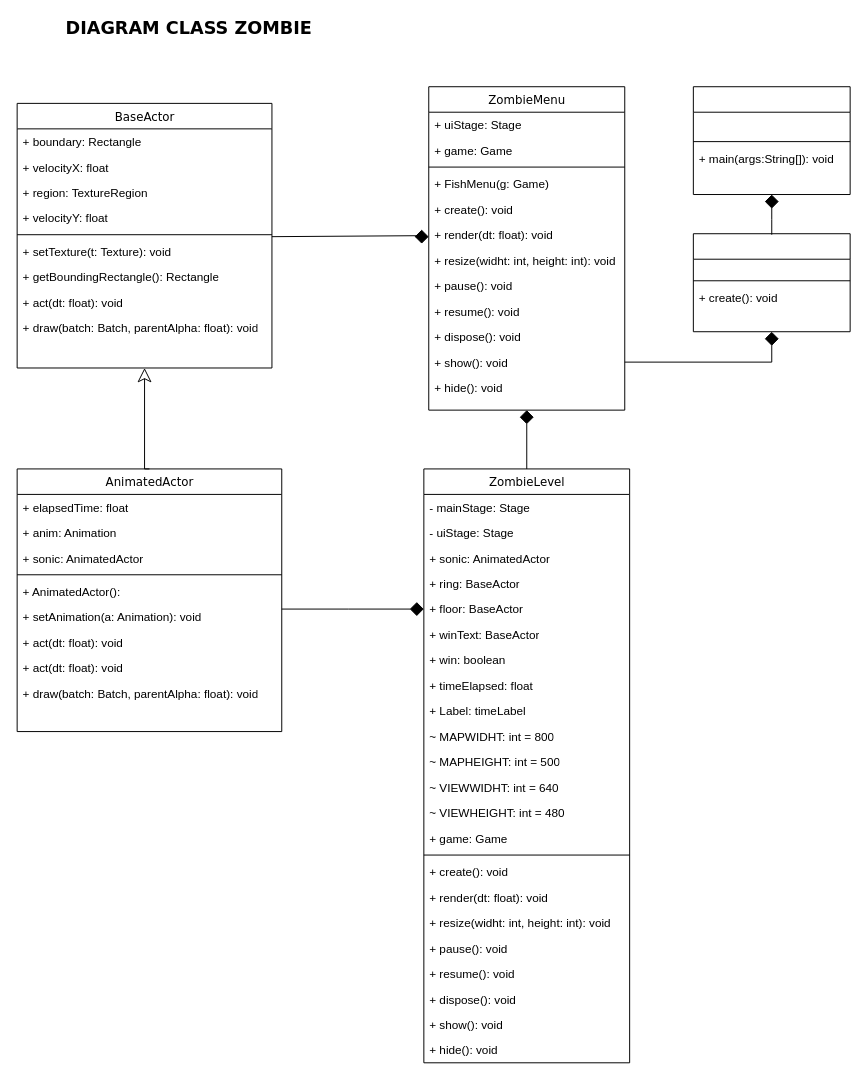
The diagram is 867 pixels wide and 1082 high, and some of its shapes have lost their labels. The box of each missing label's shape, as (x1, y1, x2, y2) in pixels:
Zombie Launcher: (692, 86, 850, 195)
ZombieGame: (692, 233, 850, 332)
